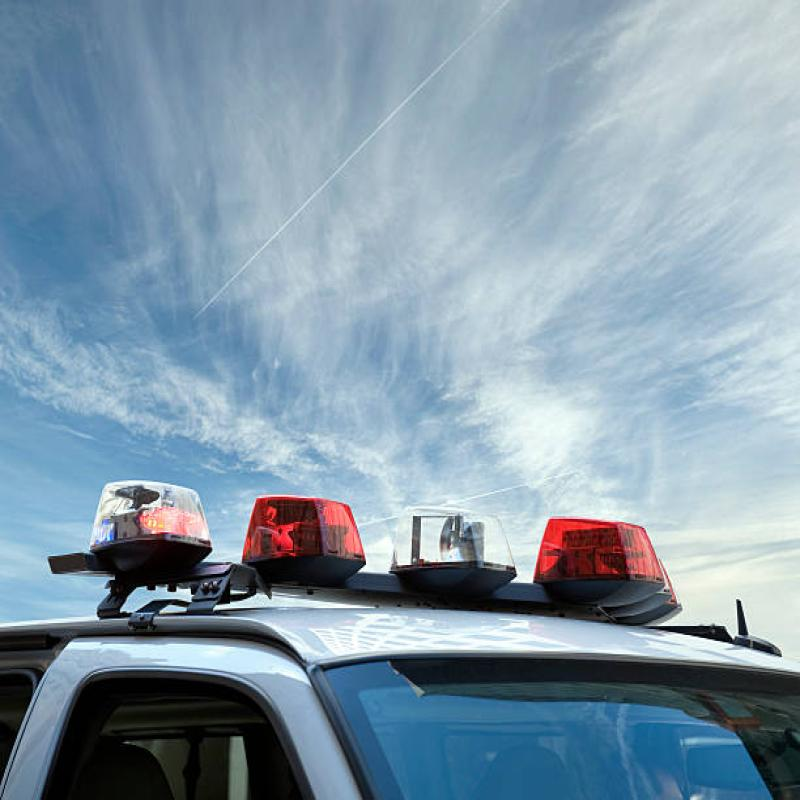AmbulanceSiren: (79, 478, 682, 659)
